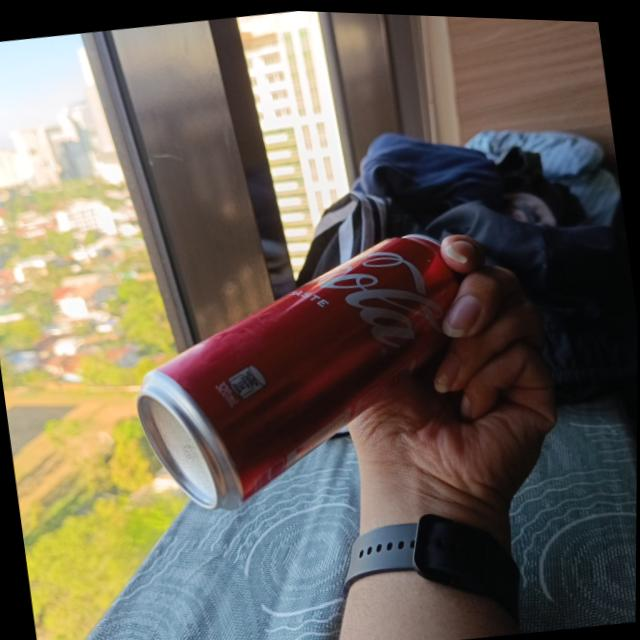coke: (117, 215, 485, 524)
